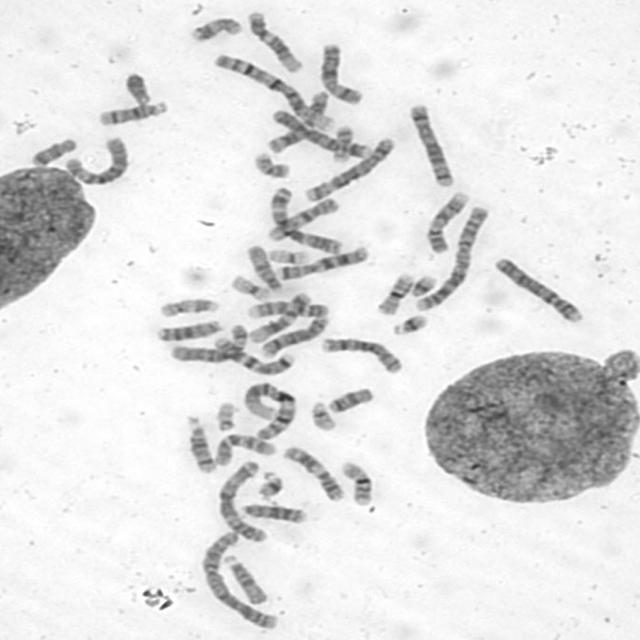A1: (208, 49, 338, 132), (237, 378, 299, 441)
A2: (410, 201, 493, 312), (195, 527, 282, 632)
A3: (266, 183, 346, 254), (214, 456, 270, 544)
B4: (490, 252, 586, 324), (268, 106, 374, 160)
B5: (301, 133, 398, 203), (404, 99, 458, 188)
C10: (264, 190, 342, 247), (210, 429, 277, 467)
C11: (263, 87, 332, 154), (279, 441, 348, 503)
C12: (243, 6, 305, 73), (244, 288, 311, 344)
C6: (165, 319, 252, 364), (60, 132, 130, 187)
C7: (272, 241, 372, 281), (209, 333, 296, 376)
C8: (256, 311, 334, 359), (317, 332, 405, 374)
C9: (422, 187, 472, 254), (243, 296, 333, 319)
D13: (153, 315, 226, 342), (235, 498, 309, 524)
D14: (182, 411, 220, 474), (93, 96, 171, 126)
D15: (218, 550, 270, 606), (242, 241, 284, 292)
E16: (372, 269, 417, 316), (337, 456, 377, 506)
E17: (154, 293, 222, 319), (185, 12, 243, 42)
E18: (27, 133, 80, 167), (324, 383, 376, 414)
F19: (227, 271, 274, 302), (265, 244, 312, 266)
F20: (250, 148, 292, 179), (328, 122, 354, 164)
G21: (387, 309, 432, 336), (253, 466, 286, 500)
G22: (306, 398, 339, 432), (212, 397, 239, 432)
X: (316, 39, 366, 106)
Y: (120, 68, 154, 106)
